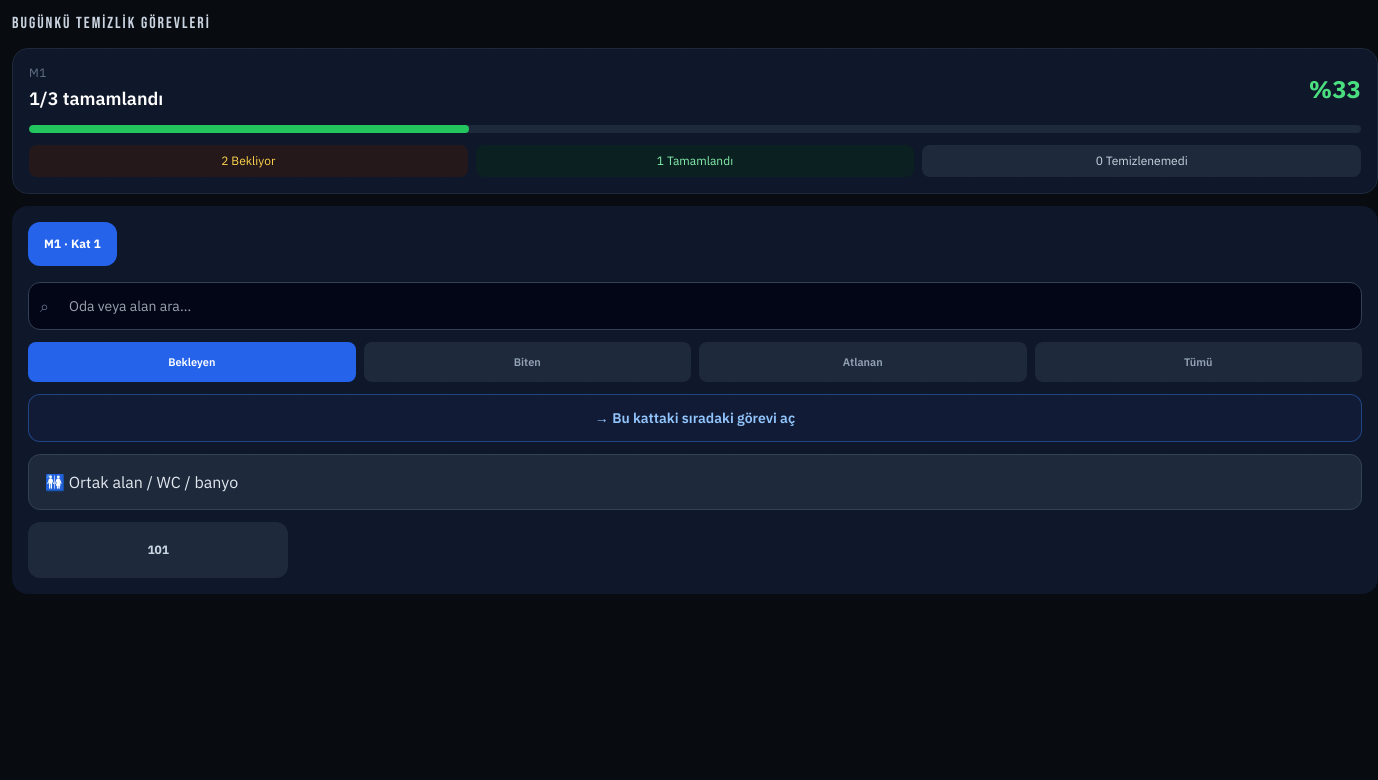
AVS sekme parçaları smoke › TasksTab housekeeping blok/kat/oda grid render eder
Expected: the button "M1 · Kat 1" is shown, [28,222,117,266]
Expected: the button "101" is shown, [28,522,288,578]
Click the button "Tümü": (1198, 362) [1034,342,1362,382]
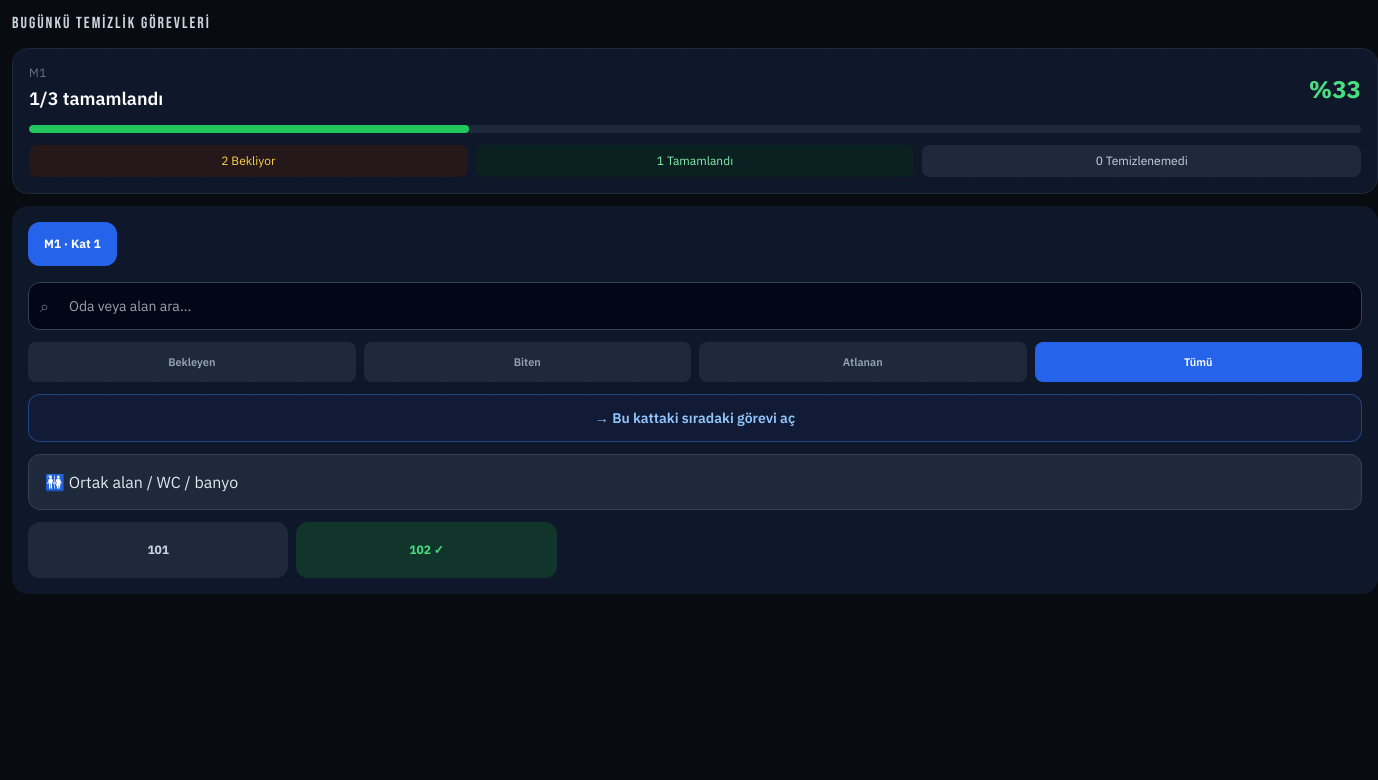
Expected: the button "🚻 Ortak alan / WC / banyo" is shown, [28,454,1362,510]
Expected: the button "102 ✓" is shown, [296,522,557,578]
